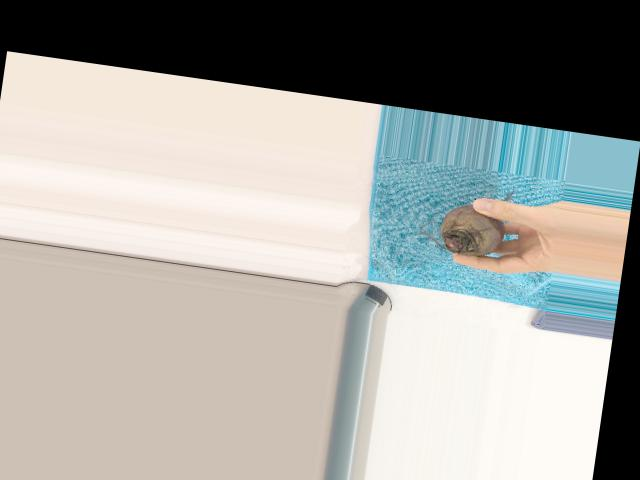beet: (417, 177, 514, 260)
